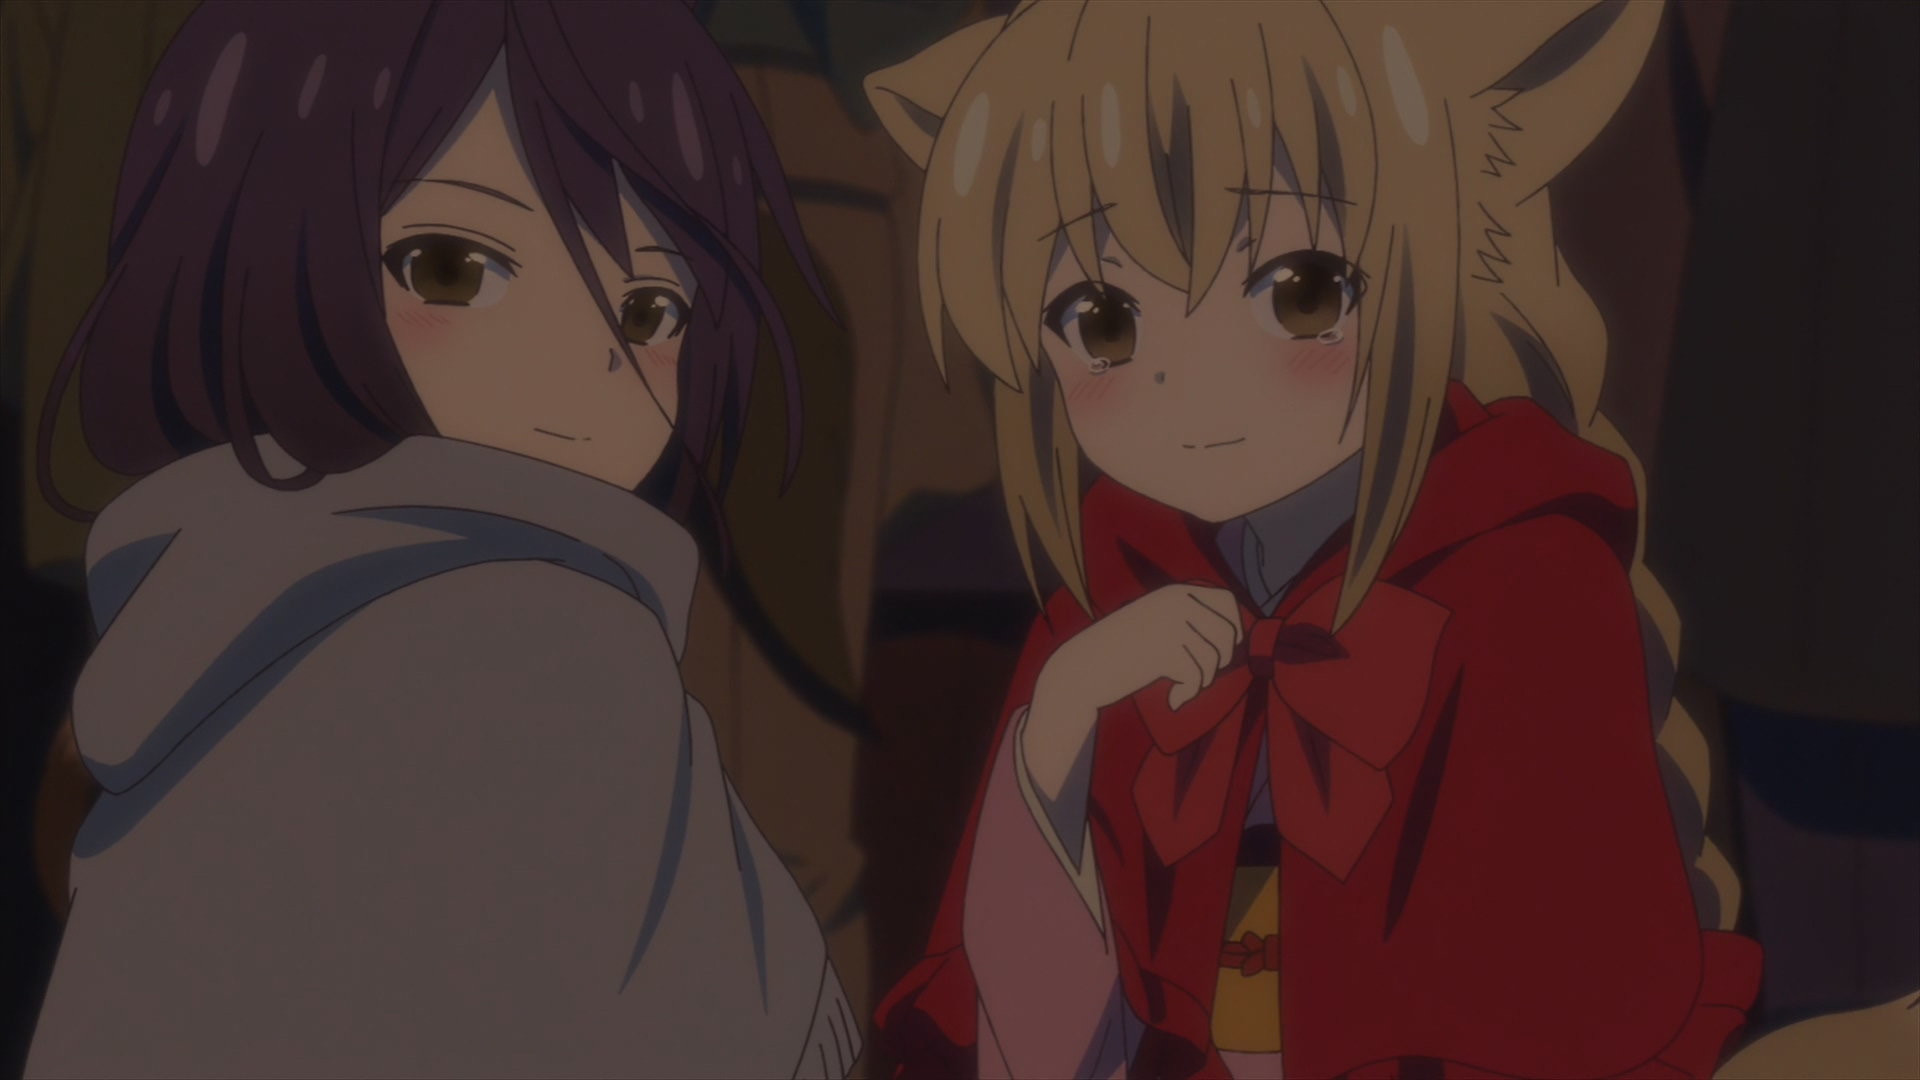柚: (860, 1, 1920, 1080)
皋: (26, 1, 861, 1080)
